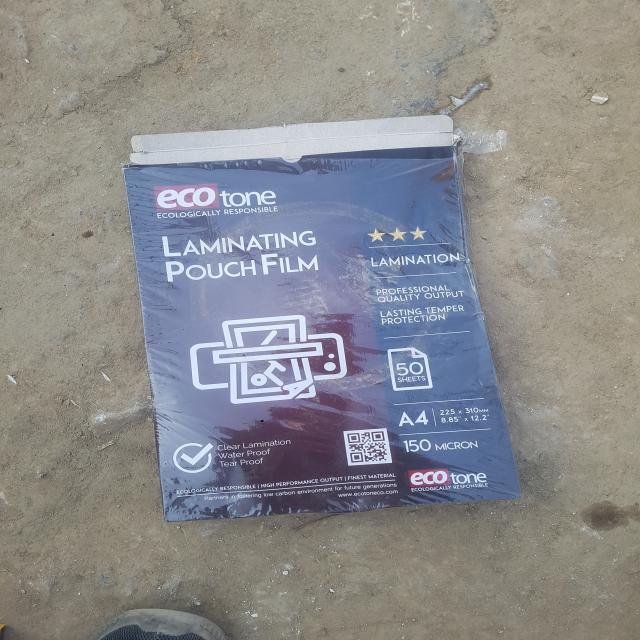electronic: (122, 118, 523, 522)
